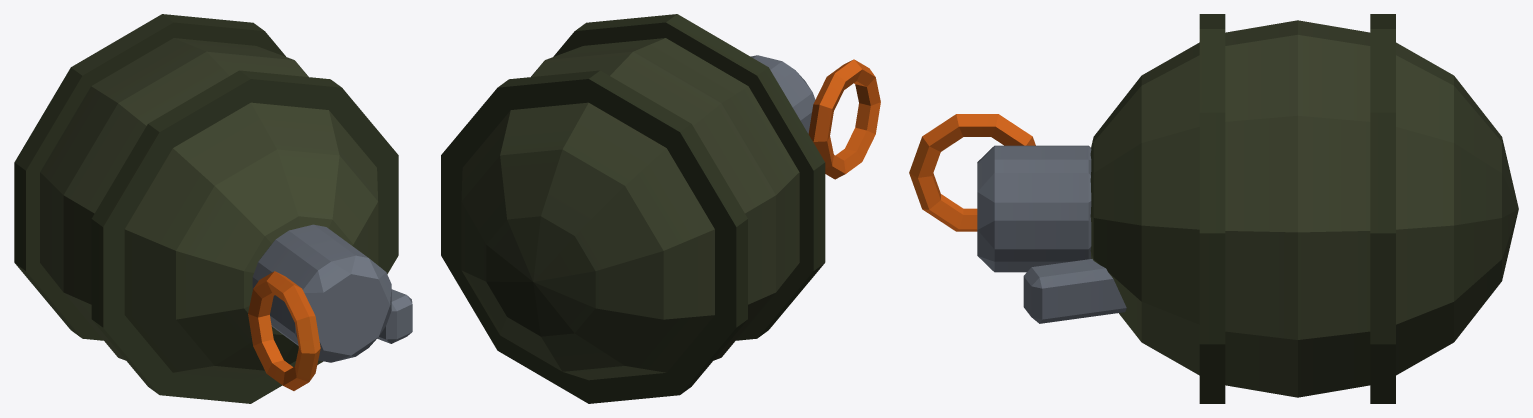
Rendered from frag.glb.
The picture shows the model from 3 angles, left to right: view 1: azimuth 30°, elevation 25°; view 2: azimuth 150°, elevation 25°; view 3: azimuth 270°, elevation 25°; orthographic projection. The views are drawn at different scales.
Visible parts, largest first — view 1: frag; view 2: frag; view 3: frag.
Part boxes in pixels (x1,y1,x2,y2): frag: (14,14,412,403); frag: (441,14,880,403); frag: (909,14,1518,403).
Size of the model in its own units: 0.0884 by 0.093 by 0.1428.
